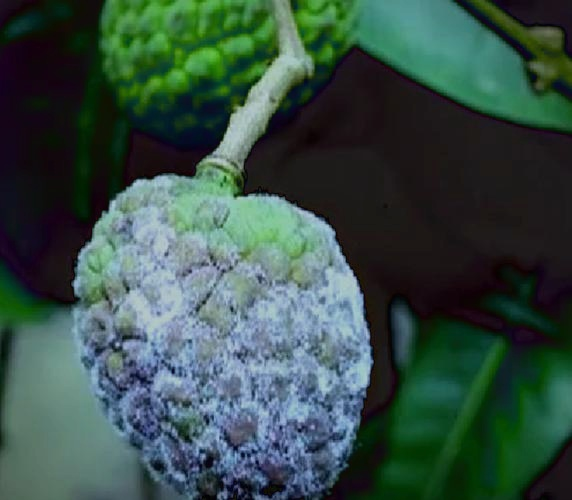Anthracnose: (73, 213, 366, 487)
